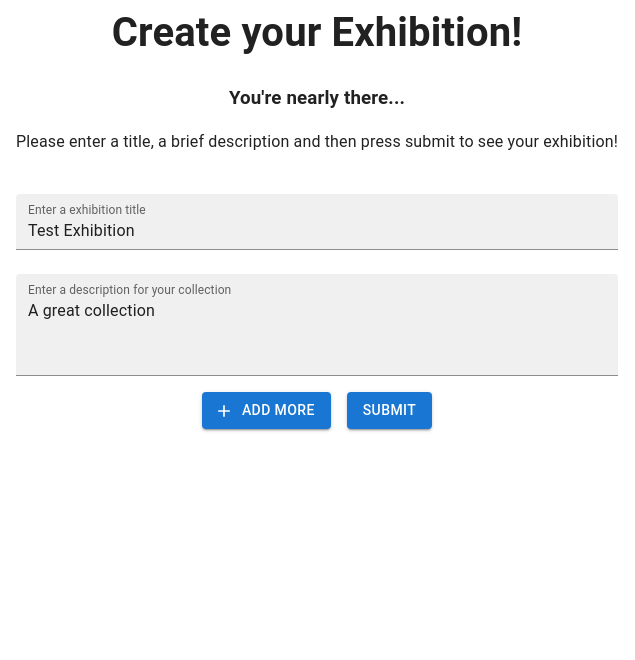
ExhibitionPage › temp artwork appears in /exhibition on submit
Click the button "Submit". click: click(389, 411)
box: [347,392,432,429]
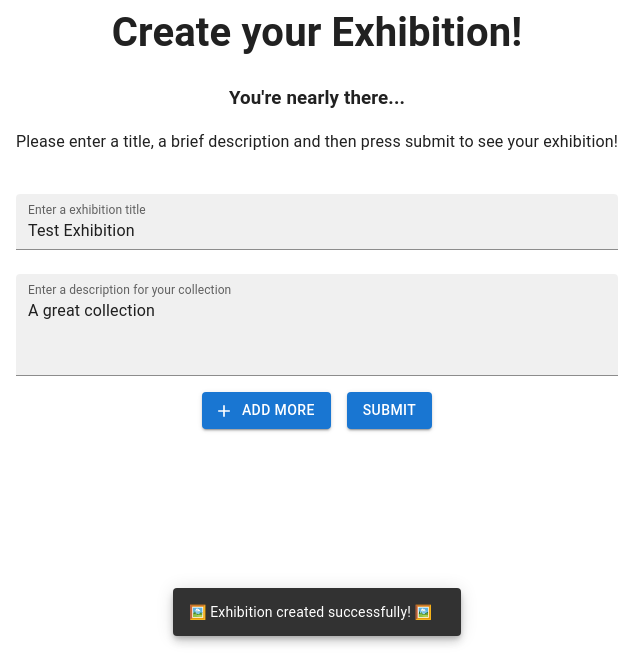
Check: the text "🖼️ Exhibition created successfully! 🖼️" is shown, box [189,604,432,620]
